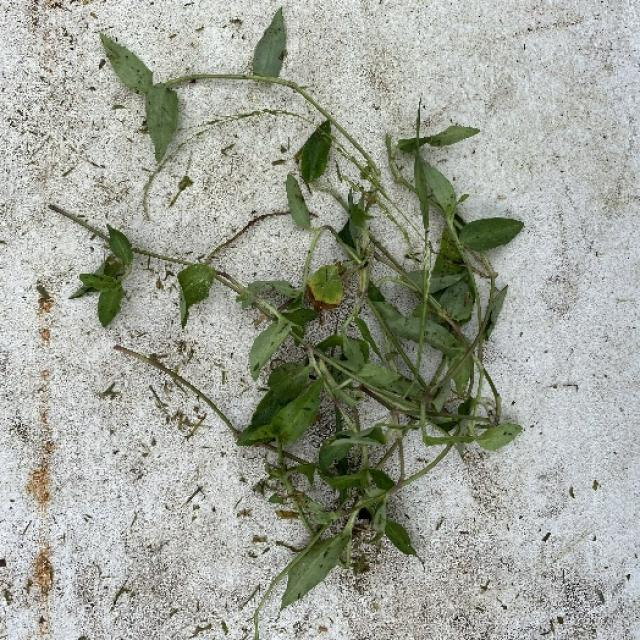organik: (75, 31, 517, 578)
